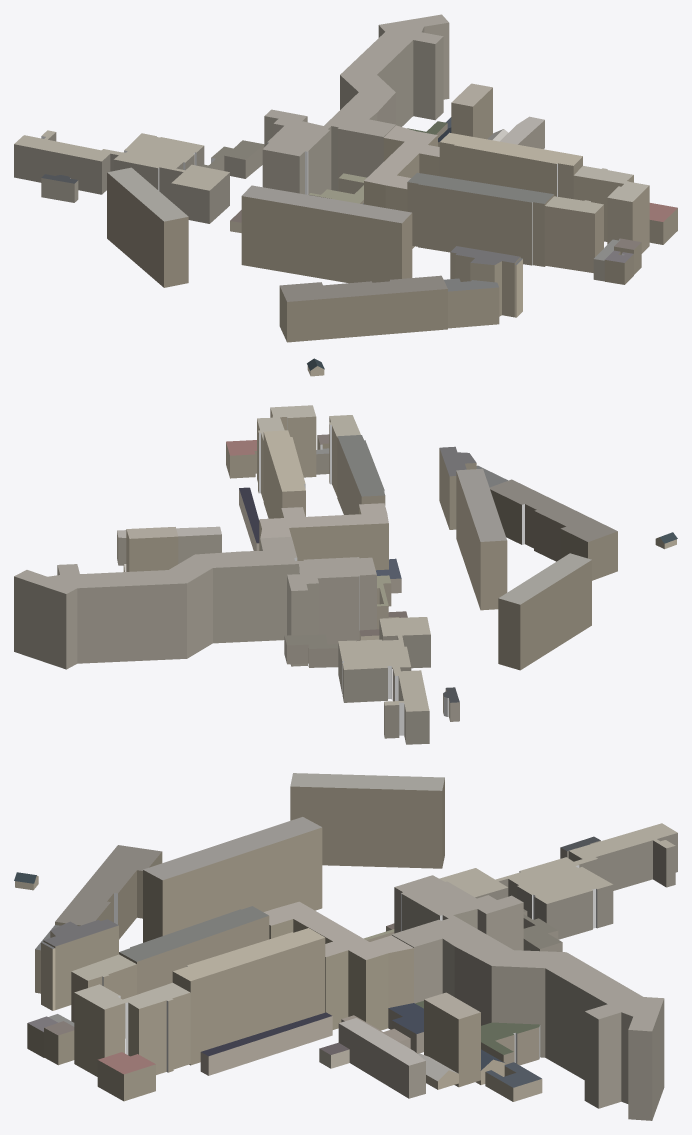
3 views of the same model, one above another, from view 1: azimuth 30°, elevation 25°; view 2: azimuth 150°, elevation 25°; view 3: azimuth 270°, elevation 25° (orthographic). The views are drawn at different scales.
Parts seen in each view (by area): view 1: tuile; view 2: tuile; view 3: tuile.
Boxes of the visible parts, box(x1,y1,x2,y2) form: tuile: box(14, 14, 677, 376); tuile: box(14, 405, 677, 744); tuile: box(14, 773, 677, 1120).
Size of the model in its own units: 262 by 52.18 by 291.
